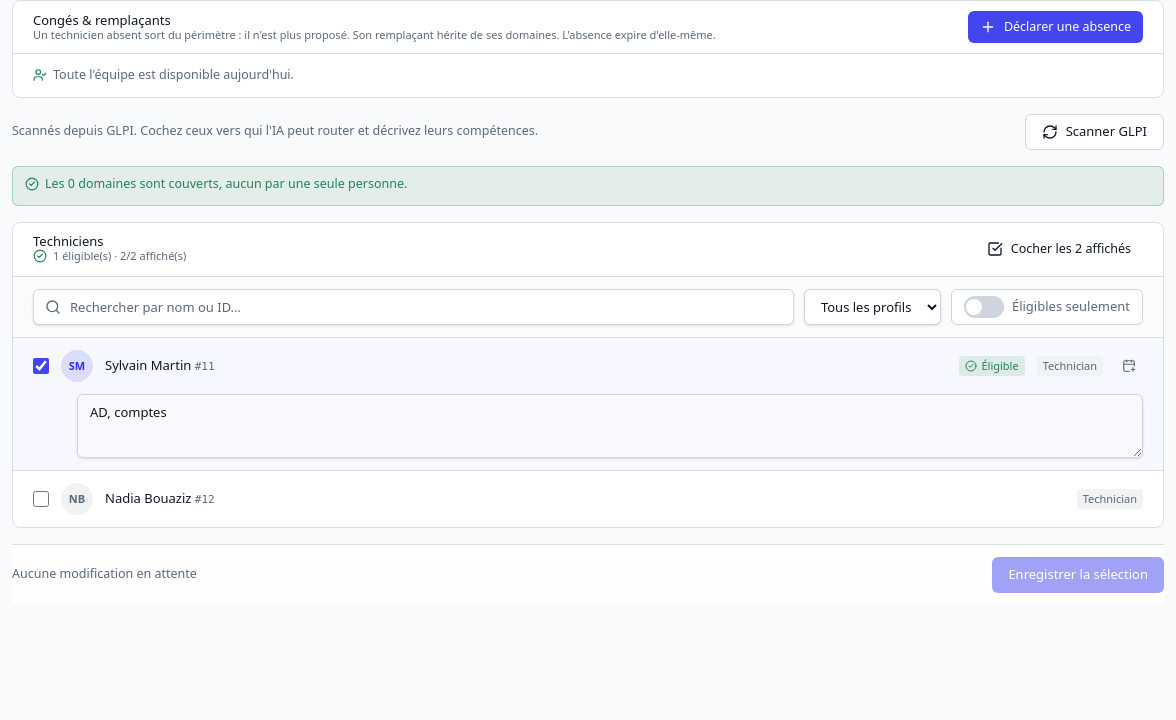
Test: Congés vus depuis la ligne du technicien › le bouton de la ligne ouvre la planification déjà remplie à ce nom
Step 1. Click the button named "Déclarer une absence pour Sylvain Martin" → x=1129, y=366, box [1115, 352, 1143, 380]
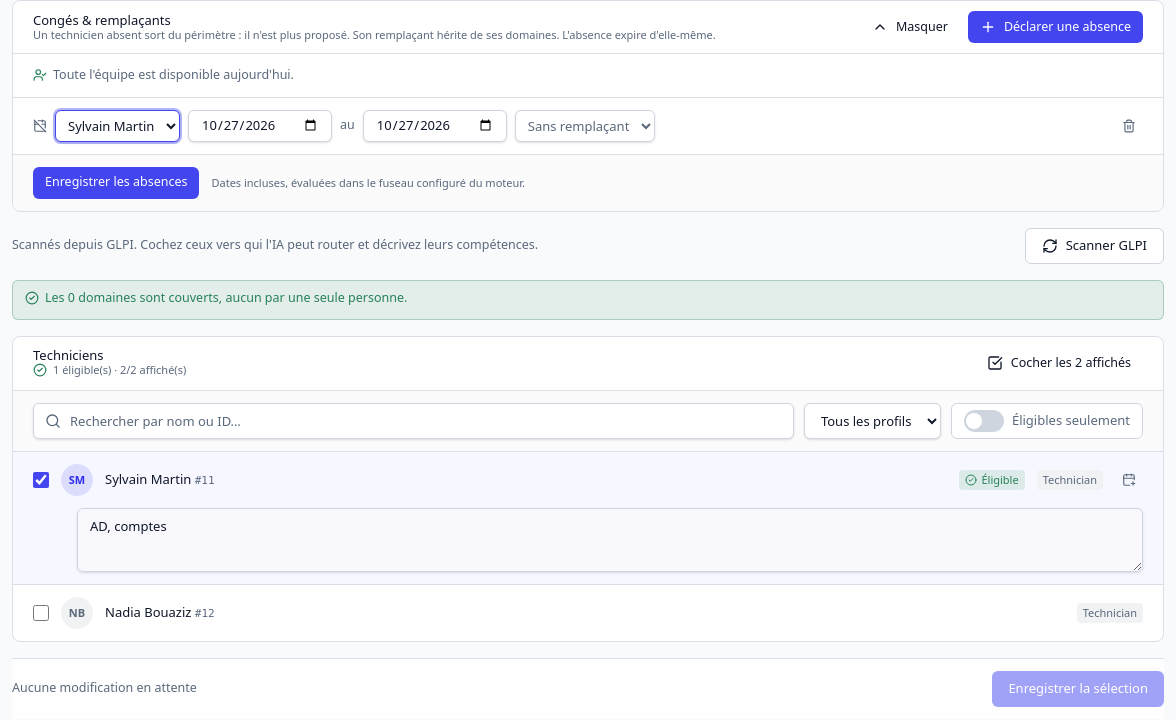
Expected: the dropdown named "Technicien absent" shows "Sylvain Martin", [55, 110, 180, 142]
